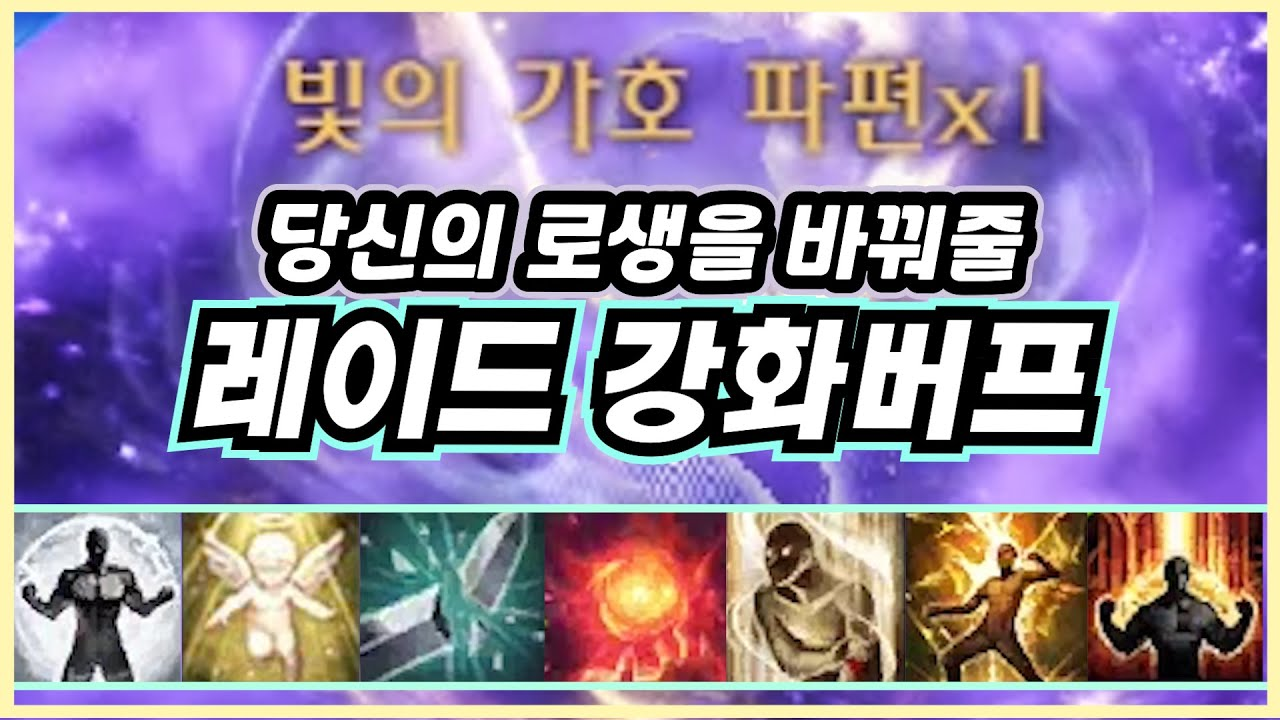강화버프: (580, 300, 1120, 465)
당신의: (251, 183, 522, 299)
레이드: (168, 300, 587, 459)
로생을: (513, 183, 774, 293)
바꿔줄: (769, 186, 1045, 296)
